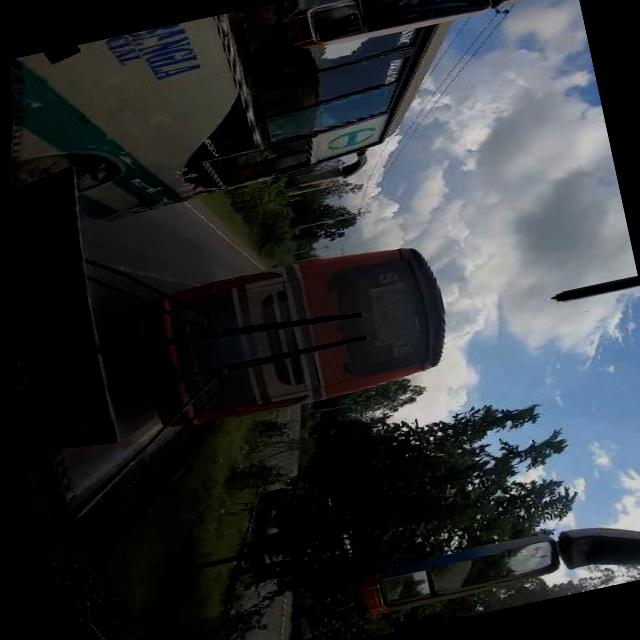bus: (0, 0, 515, 235), (135, 234, 458, 427)
